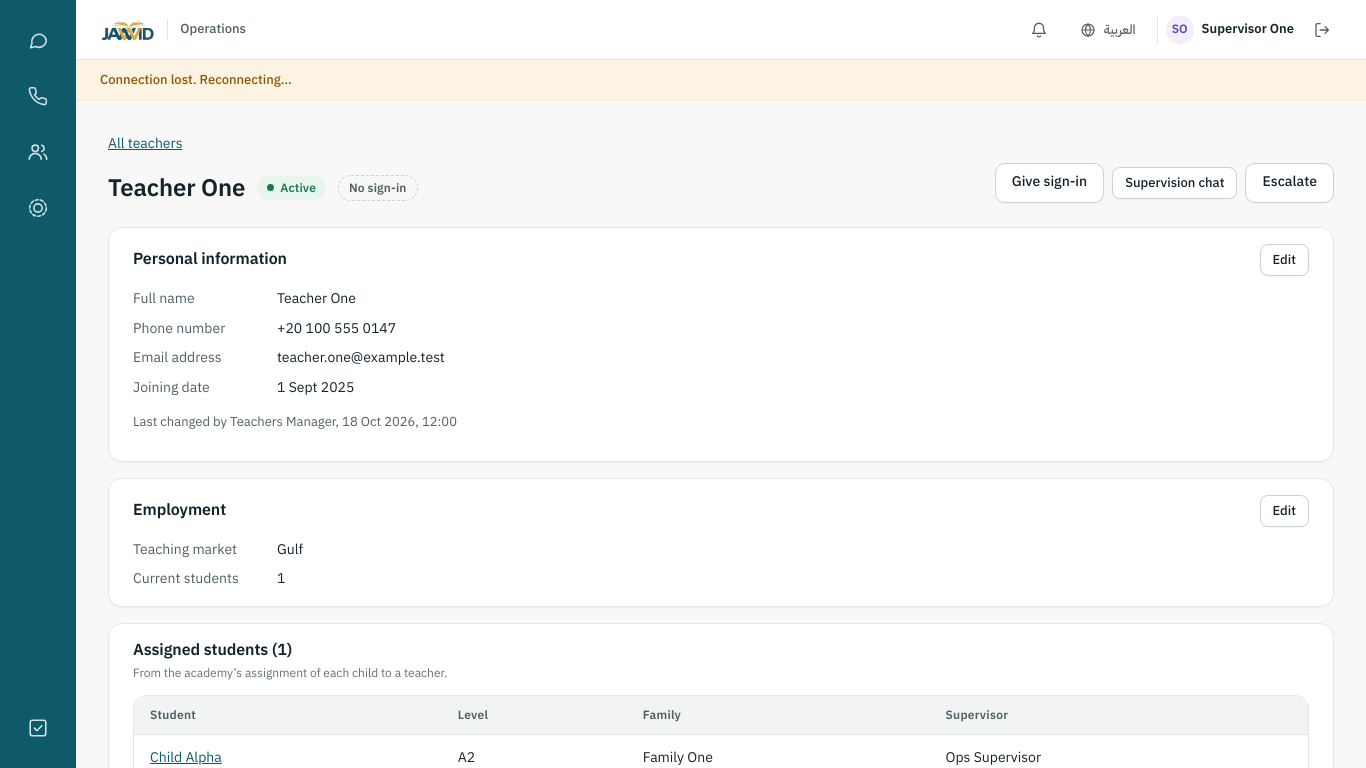
Test: Give sign-in › a supervisor gives a login but never sees the code: it is e-mailed, or ask the Manager
Click the button "Give sign-in".
click(1050, 183)  # box [995,163,1104,203]
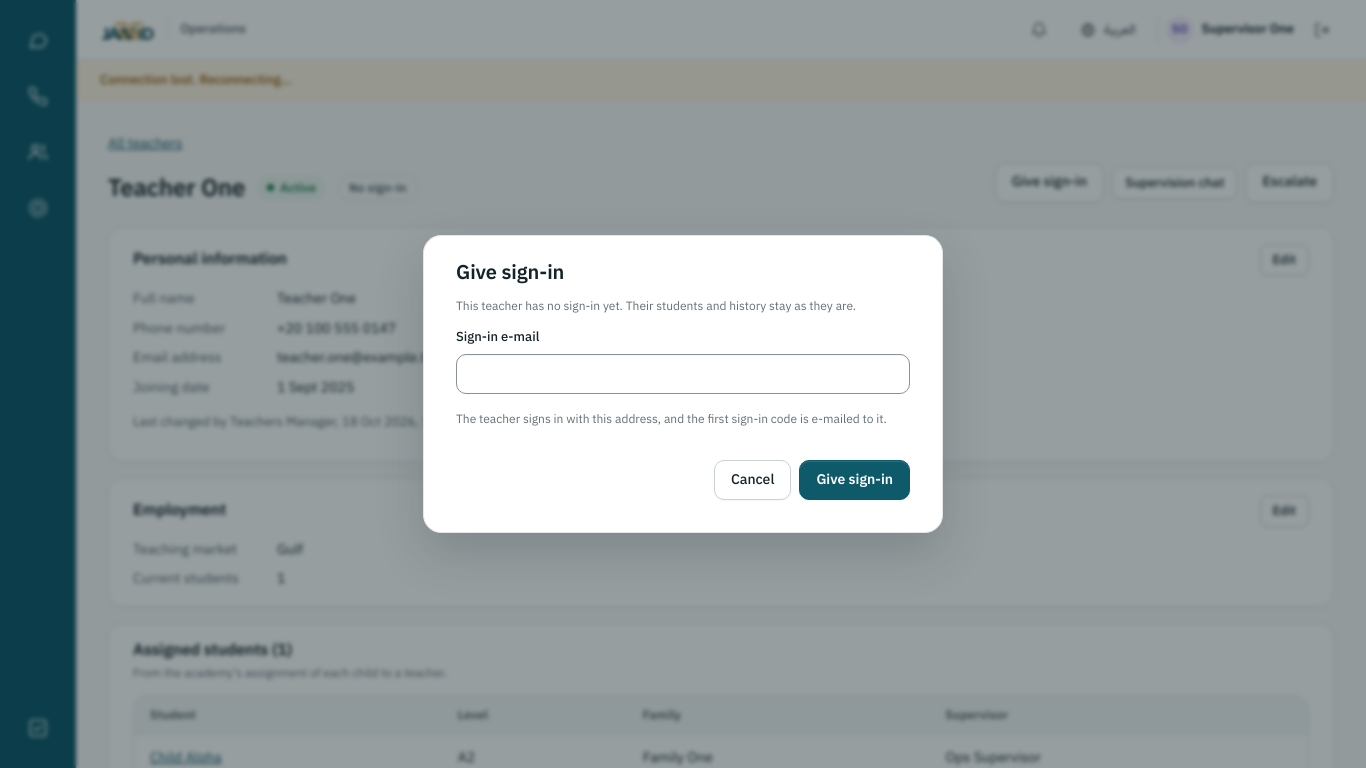
Type "teacher.one@example.test" into the field labelled "Sign-in e-mail".
click(683, 374); type("teacher.one@example.test")  # box [456,354,910,394]
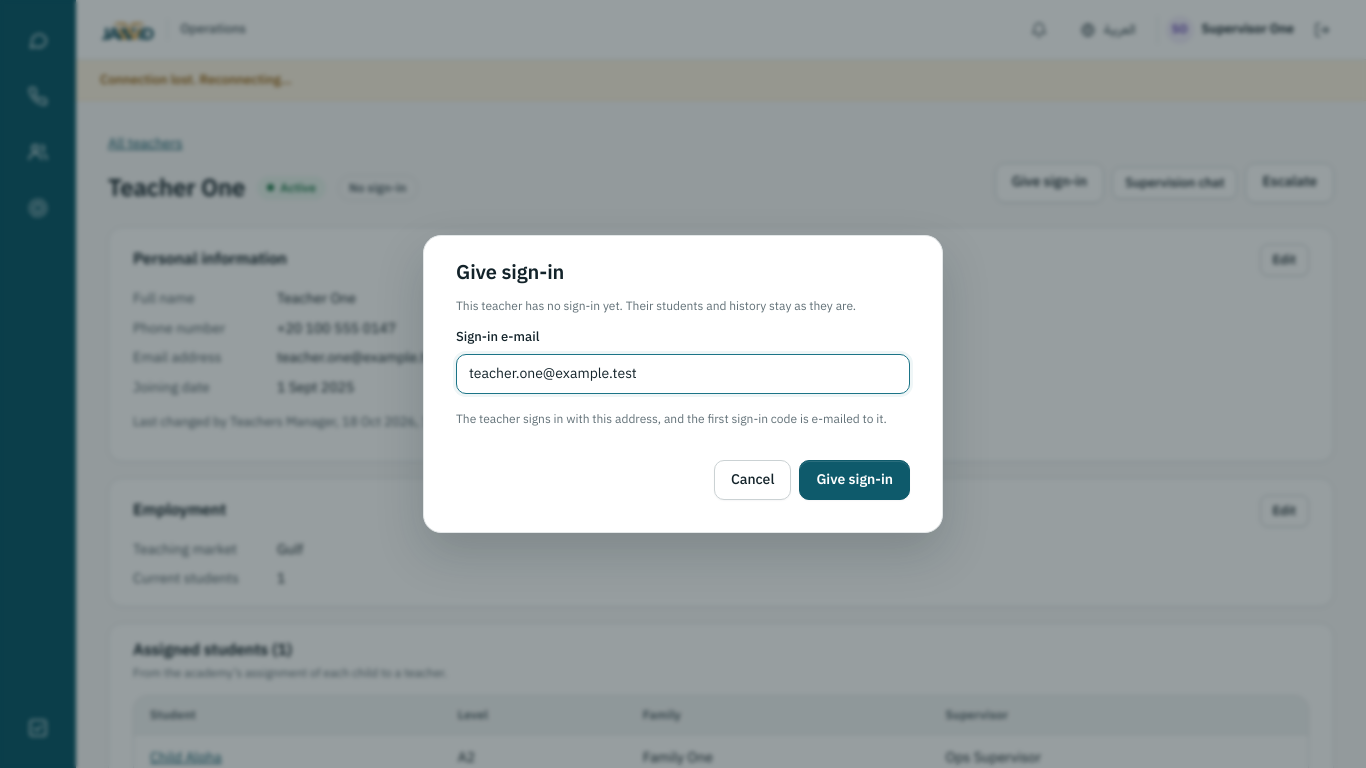
Click the 2nd button "Give sign-in".
click(855, 480)  # box [799,460,910,500]
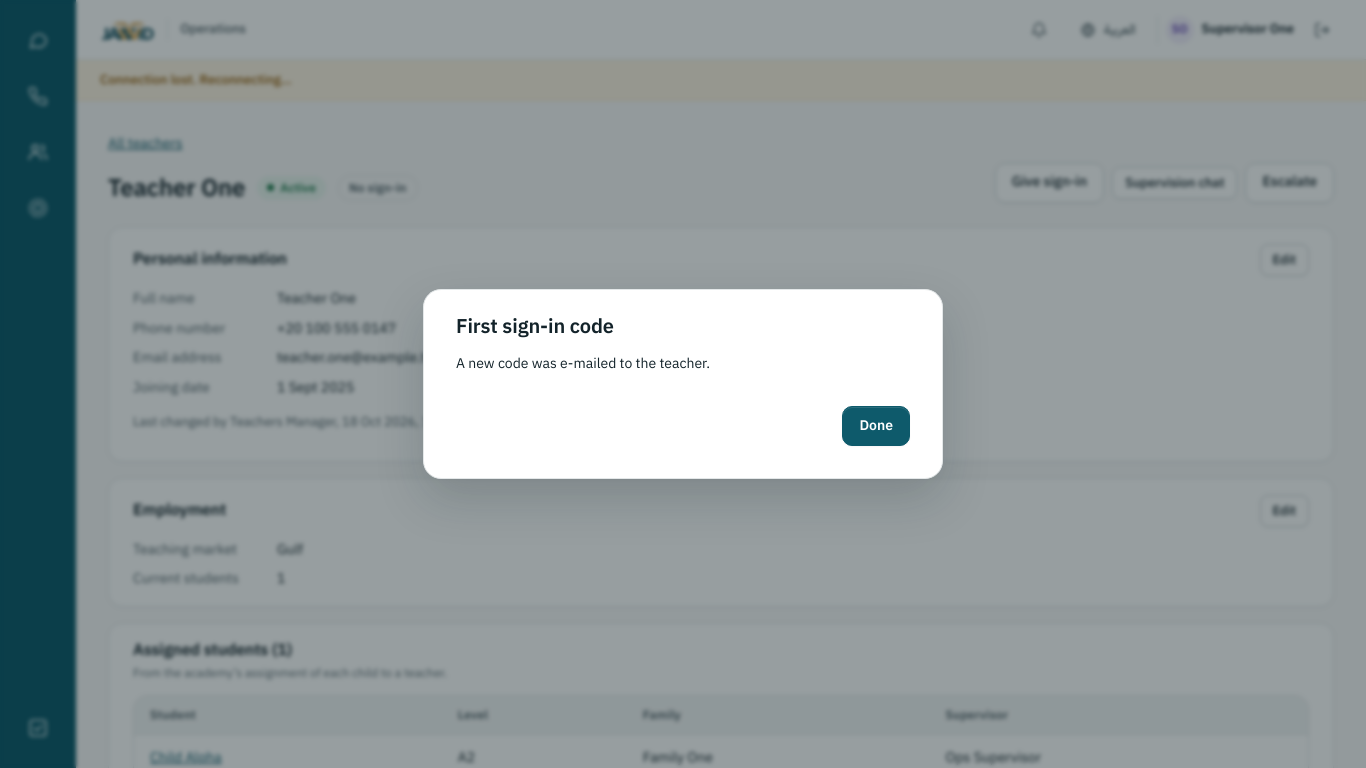
Result: the text "A new code was e-mailed to the teacher." is shown at [456,353,710,374]
